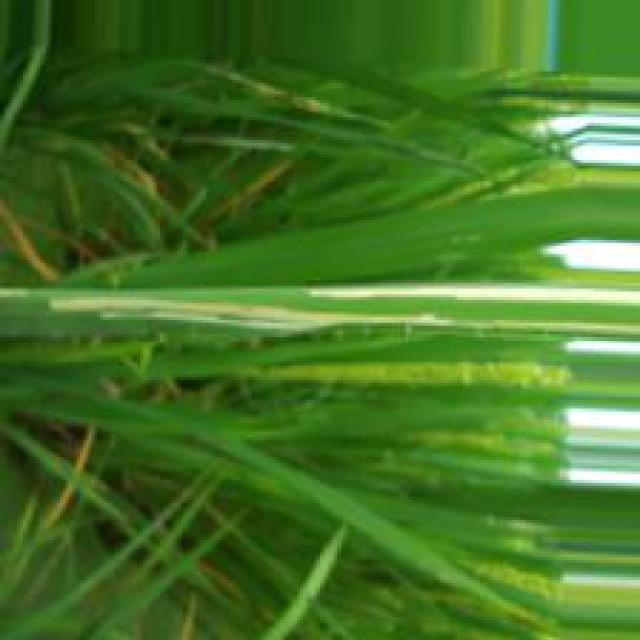Rice_Hispa: (50, 302, 402, 333), (313, 283, 638, 311)
